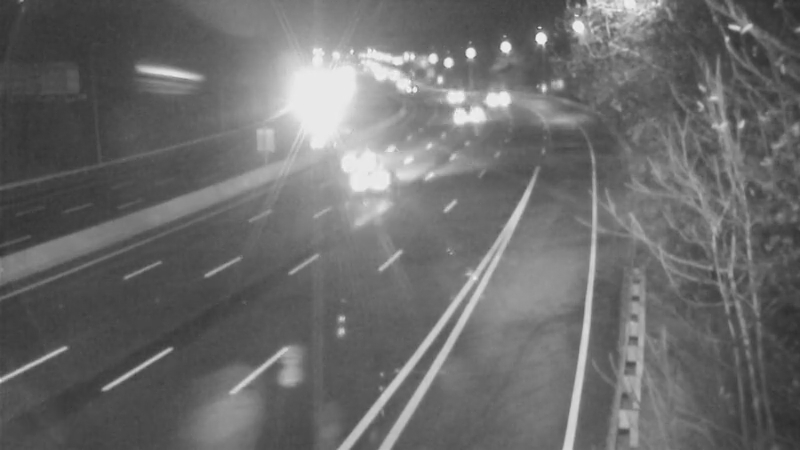vehicle: (308, 125, 388, 205), (335, 142, 415, 222), (389, 63, 439, 113), (424, 68, 474, 118), (473, 71, 523, 121), (443, 89, 493, 139), (289, 79, 339, 129)
